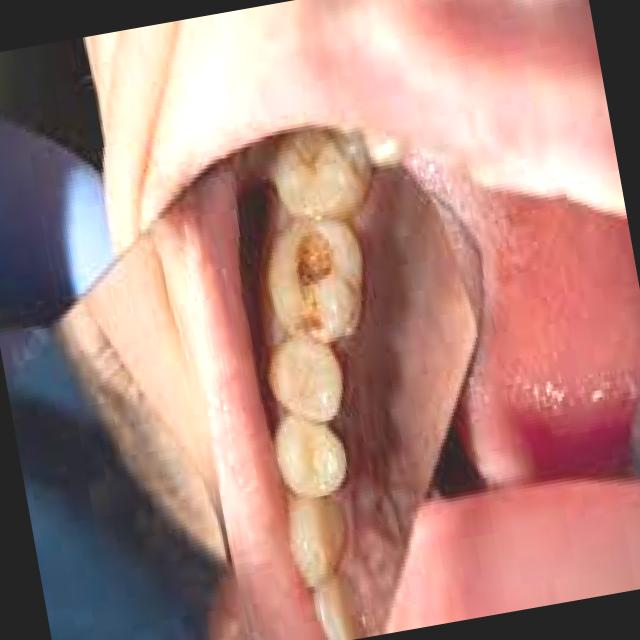caries: (275, 221, 351, 346)
